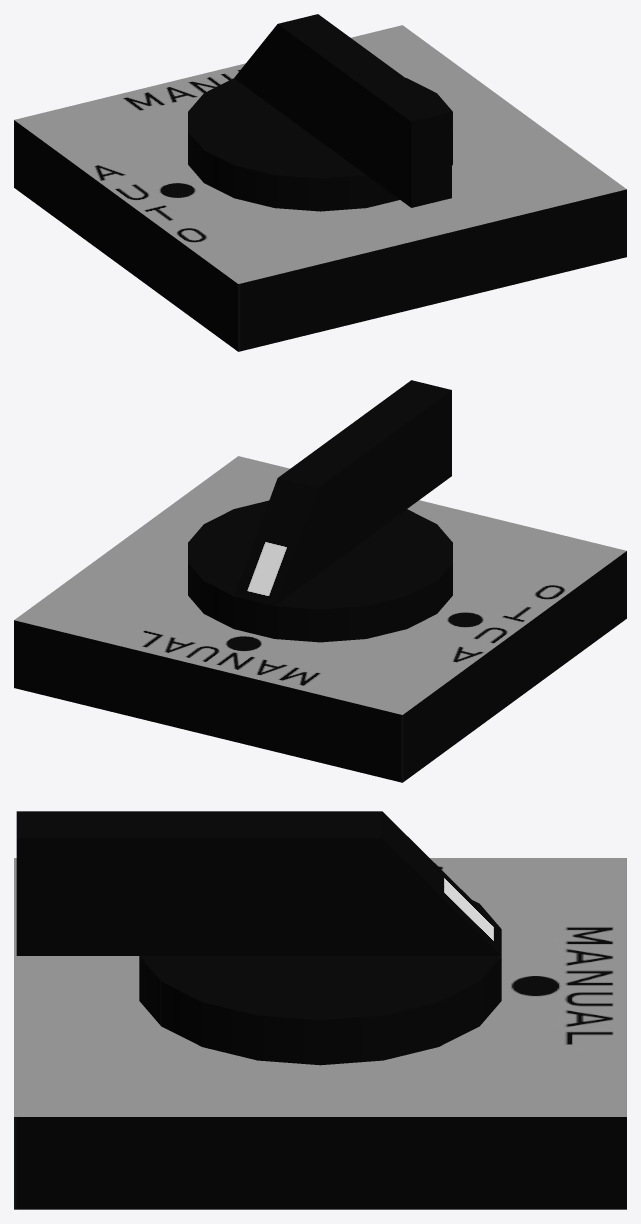
File: switch_autoManual.fbx
The picture shows the model from 3 angles, top to bottom: view 1: azimuth 30°, elevation 25°; view 2: azimuth 150°, elevation 25°; view 3: azimuth 270°, elevation 25°; orthographic projection. The views are drawn at different scales.
Visible parts, largest first — view 1: selector_autoManual, switch003; view 2: selector_autoManual, switch003; view 3: selector_autoManual, switch003.
Boxes of the visible parts, left/top/right/bottom form: selector_autoManual: left=14, top=25, right=626, bottom=351; switch003: left=188, top=14, right=452, bottom=211; selector_autoManual: left=14, top=456, right=626, bottom=782; switch003: left=188, top=380, right=452, bottom=642; selector_autoManual: left=14, top=858, right=626, bottom=1209; switch003: left=16, top=811, right=501, bottom=1065.
Bounding box in the file's own units: 3 × 1.38 × 3.
